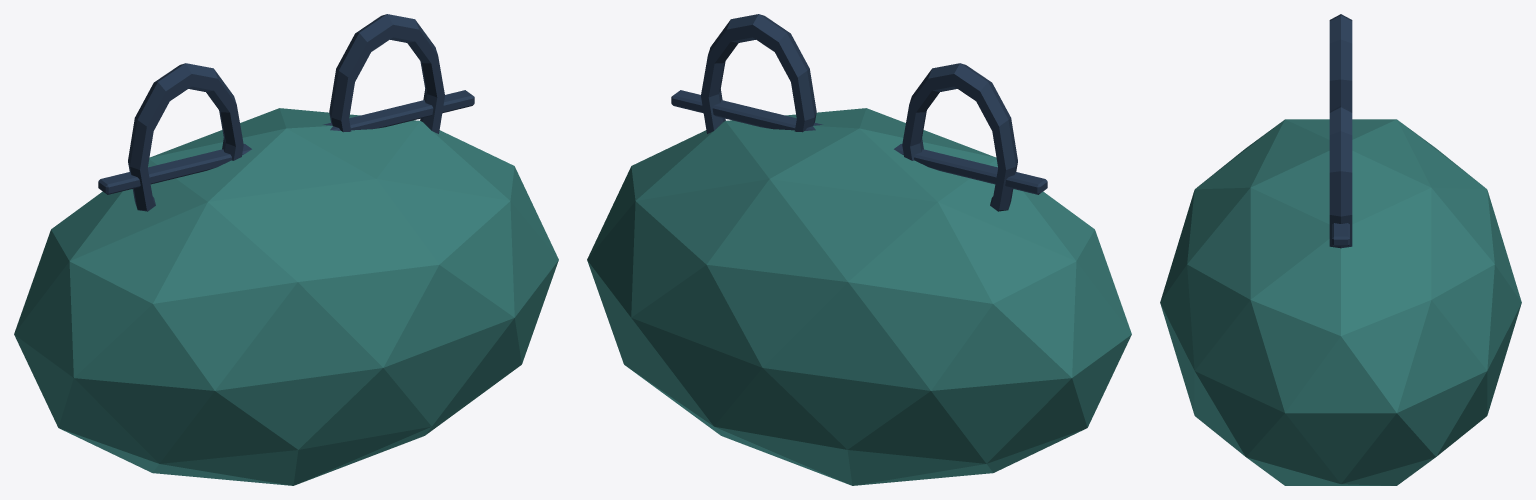
File: Prop_LootBag.fbx
3 renders of one model, left to right at view 1: azimuth 30°, elevation 25°; view 2: azimuth 150°, elevation 25°; view 3: azimuth 270°, elevation 25°, orthographic. The views are drawn at different scales.
Parts seen in each view (by area): view 1: Duffel, Handle.005, Handle.006, Zip; view 2: Duffel, Handle.005, Handle.006, Zip; view 3: Duffel, Handle.006, Handle.005, Zip.
Boxes of the visible parts, <box> form: Duffel: <box>14,108,558,485</box>; Handle.005: <box>128,63,243,211</box>; Handle.006: <box>329,14,444,133</box>; Zip: <box>98,90,474,194</box>; Duffel: <box>587,108,1131,485</box>; Handle.005: <box>902,63,1017,211</box>; Handle.006: <box>701,14,816,133</box>; Zip: <box>671,90,1047,194</box>; Duffel: <box>1160,119,1521,485</box>; Handle.006: <box>1329,106,1352,248</box>; Handle.005: <box>1329,14,1352,111</box>; Zip: <box>1332,223,1349,246</box>.
Size of the model in its own units: 0.7228 by 0.608 by 0.5.
